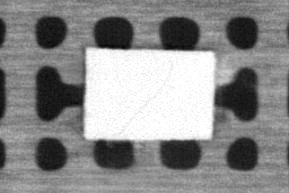DIE_CRACK: (116, 65, 173, 136)
